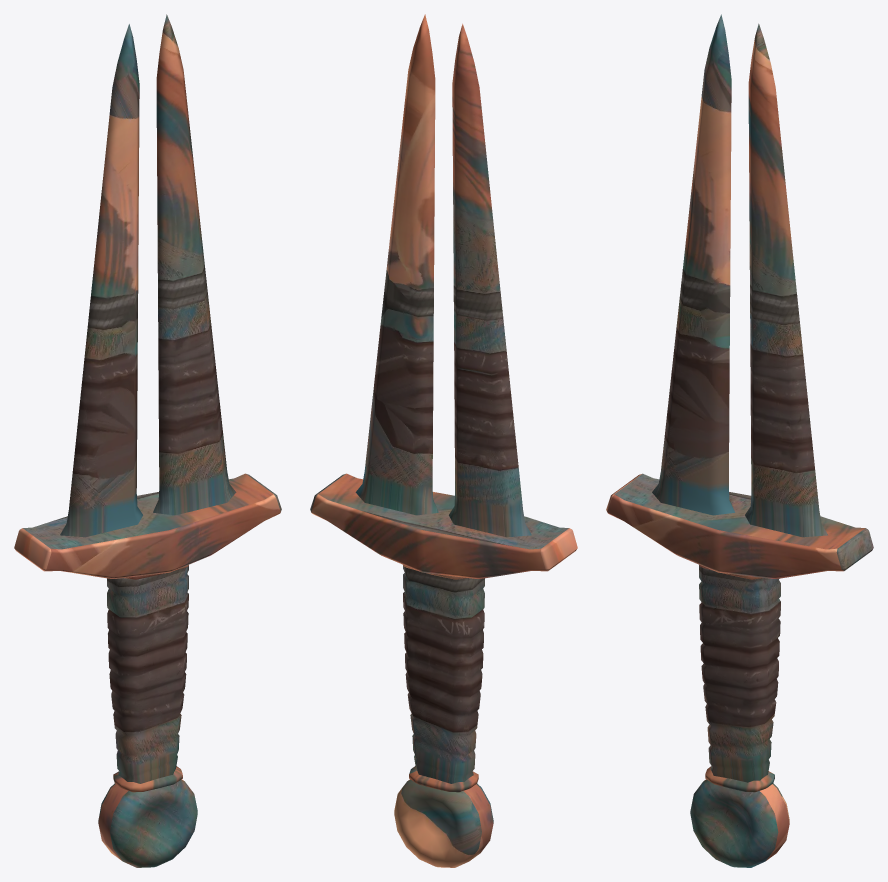
3 views of the same model, side by side, from view 1: azimuth 30°, elevation 25°; view 2: azimuth 150°, elevation 25°; view 3: azimuth 330°, elevation 25° (orthographic).
Parts seen in each view (by area): view 1: SM_Dagger_Bronze_1H_01_LOD0; view 2: SM_Dagger_Bronze_1H_01_LOD0; view 3: SM_Dagger_Bronze_1H_01_LOD0.
Part boxes in pixels (x1,y1,x2,y2): SM_Dagger_Bronze_1H_01_LOD0: [14, 14, 281, 867]; SM_Dagger_Bronze_1H_01_LOD0: [310, 14, 577, 867]; SM_Dagger_Bronze_1H_01_LOD0: [606, 14, 873, 867].
Bounding box in the file's own units: 0.1557 × 0.5237 × 0.0532.
